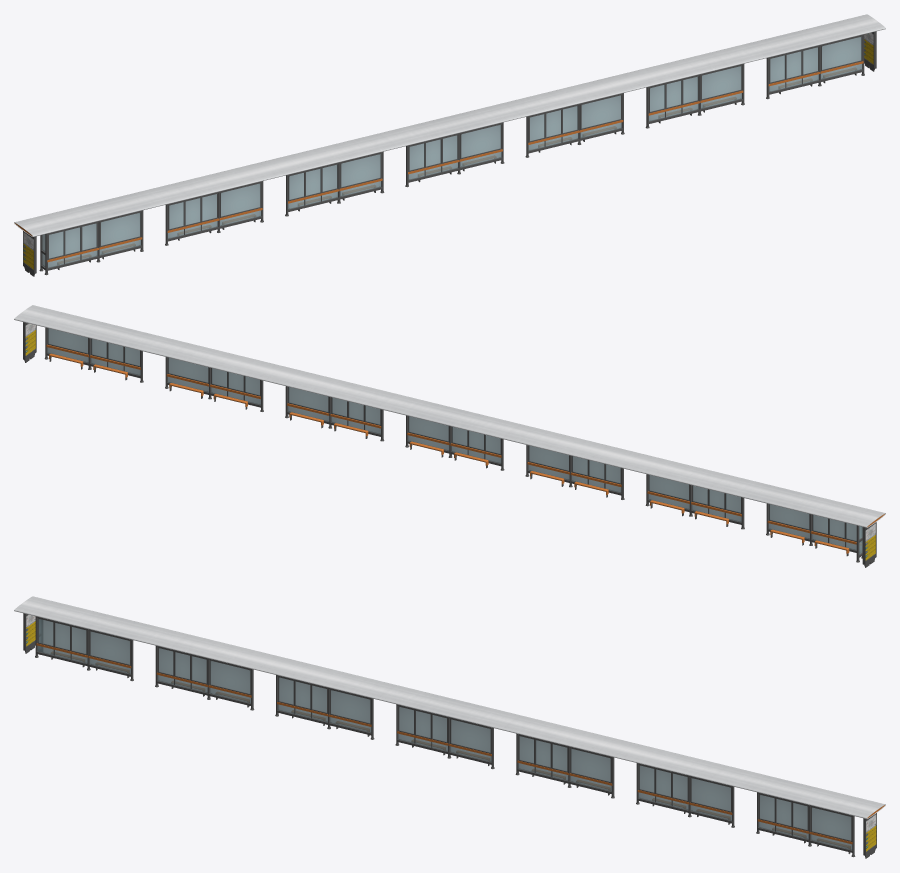
Rendered from Bus_Stop_3.fbx.
3 views of the same model, one above another, from view 1: azimuth 30°, elevation 25°; view 2: azimuth 150°, elevation 25°; view 3: azimuth 330°, elevation 25° (orthographic).
Parts seen in each view (by area): view 1: Bus_Stop_3; view 2: Bus_Stop_3; view 3: Bus_Stop_3.
Part boxes in pixels (<box>): Bus_Stop_3: <box>14,14,885,276</box>; Bus_Stop_3: <box>14,305,885,567</box>; Bus_Stop_3: <box>14,596,885,858</box>.
Bounding box in the file's own units: 51.5 × 2.7 × 2.
5 materials, 3 textured.
